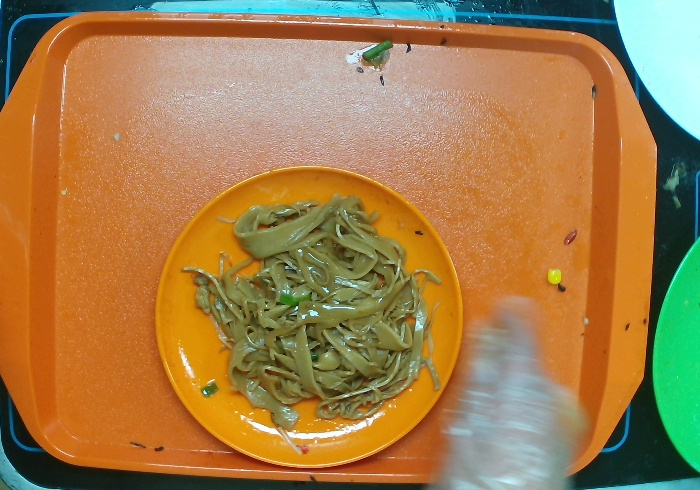HZYJPL-Ju_Huang_Yuan_Pan: (149, 167, 466, 470)
